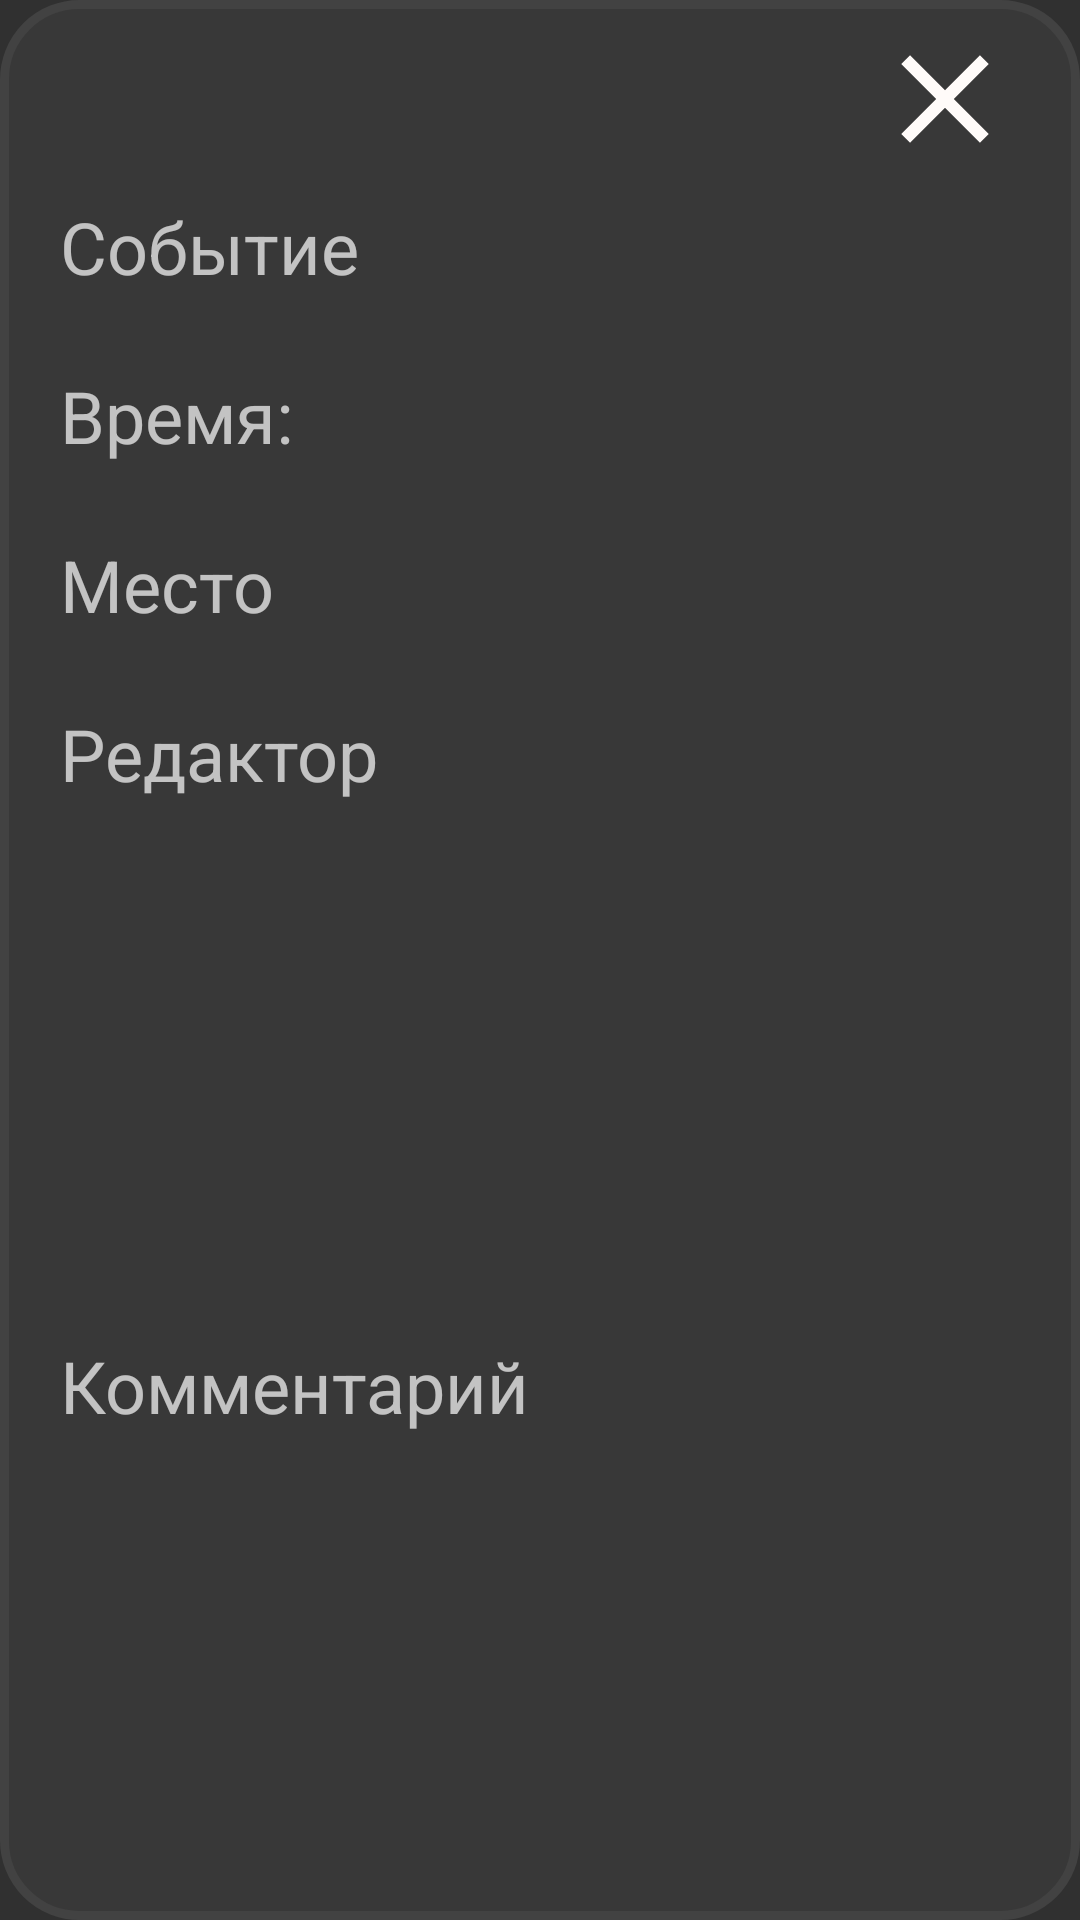

Named icons in this screenshot (1080 x 1920) and their centers, [x,y]:
clear: [945,99]
